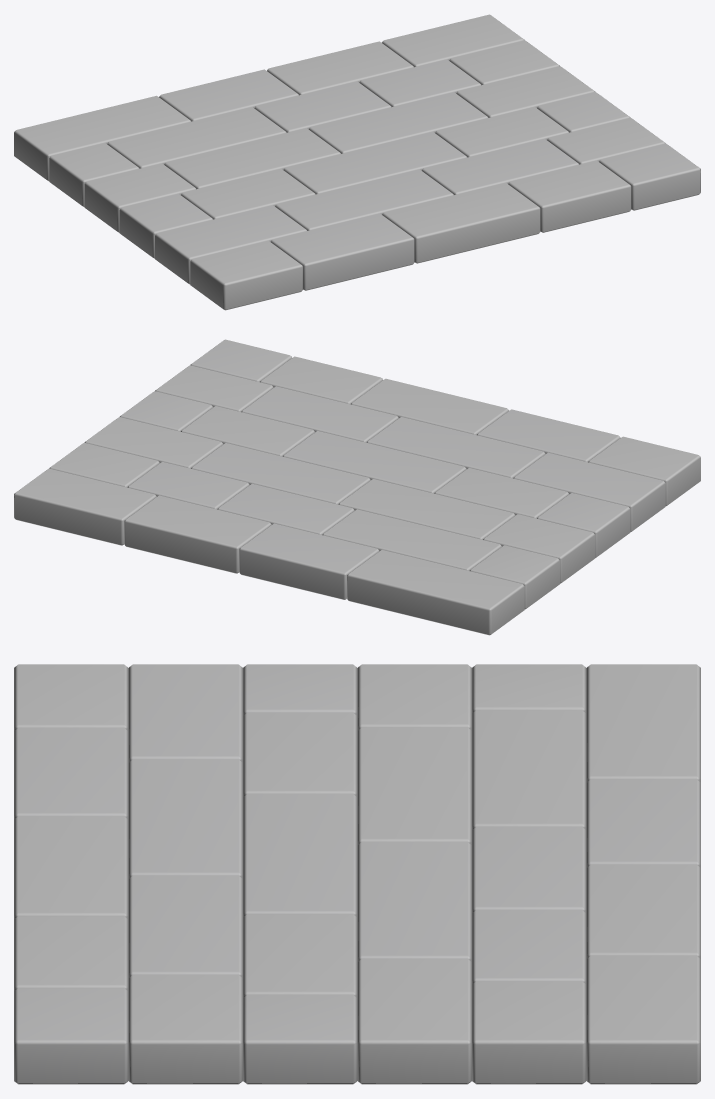
File: City_15_Base_1.glb
The picture shows the model from 3 angles, top to bottom: view 1: azimuth 30°, elevation 25°; view 2: azimuth 150°, elevation 25°; view 3: azimuth 270°, elevation 25°; orthographic projection. The views are drawn at different scales.
Parts seen in each view (by area): view 1: City_15_Base_1; view 2: City_15_Base_1; view 3: City_15_Base_1.
Part boxes in pixels (<box>): City_15_Base_1: <box>14,14,700,310</box>; City_15_Base_1: <box>14,339,700,635</box>; City_15_Base_1: <box>14,664,700,1084</box>.
Size of the model in its own units: 11.4 by 0.6294 by 8.74.
1 material, 1 textured.
